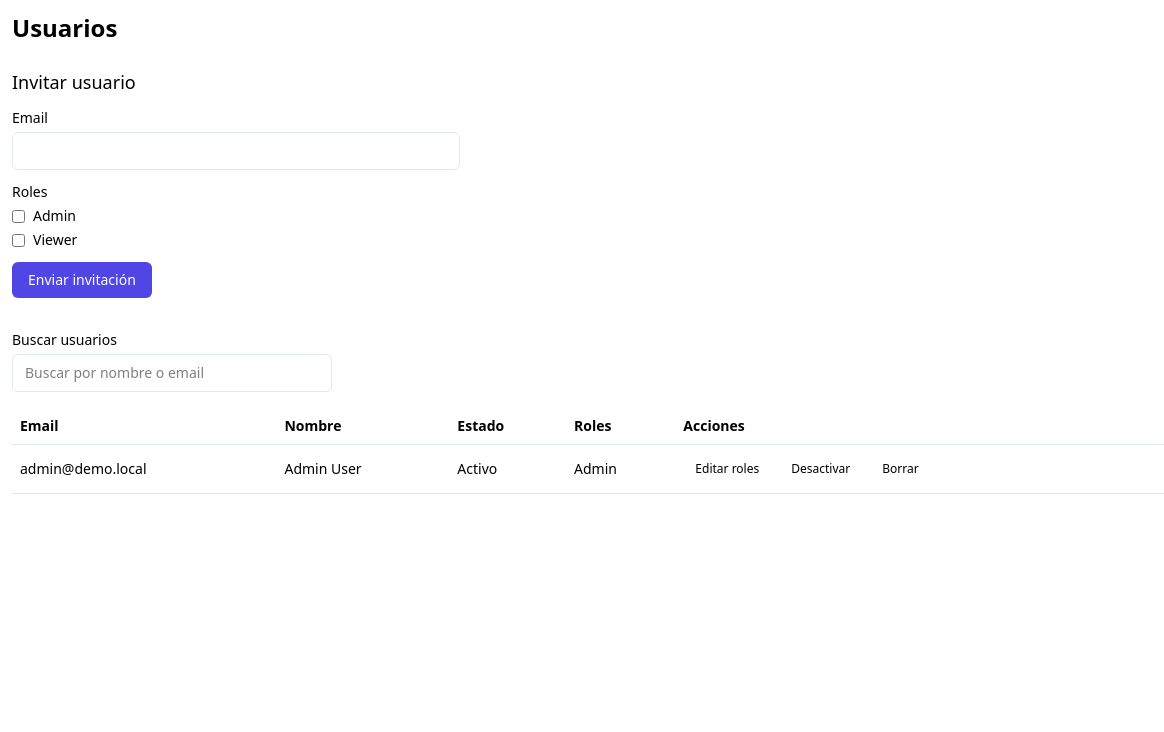
Scenario: UsersScreen › shows the last-admin error when deleting the only Admin
The image size is (1164, 732).
Check: the text "admin@demo.local" is shown, box 12,445 -> 276,494
Click the button with aria-label "Borrar — admin@demo.local": [900, 469] box 870,453 -> 931,485
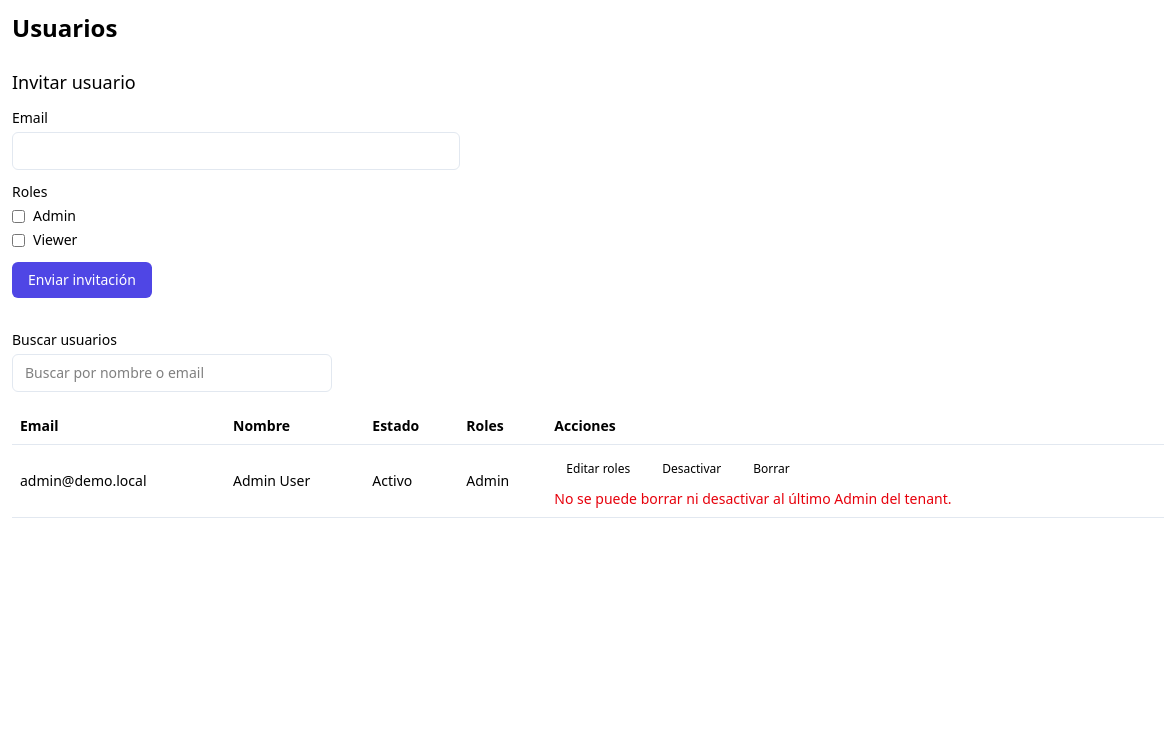
Check: the text "No se puede borrar ni desactivar al último Admin del tenant." is shown, box 554,489 -> 951,508
